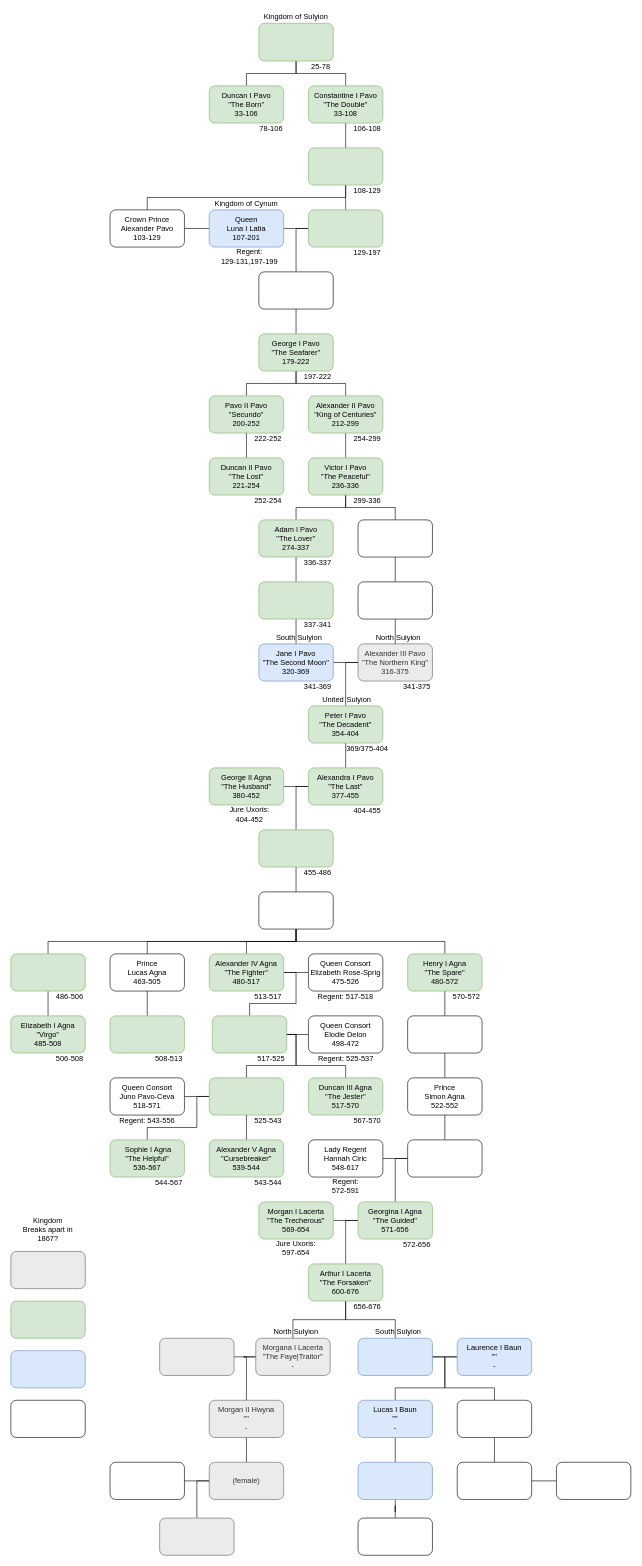
The diagram is 642 pixels wide and 1566 high, and some of its shapes have lost their labels. Each missing label, with the box of its shape:
Alexander I Pavo "The Landed" 5-78: (258, 23, 333, 61)
Crown Prince Alexander Agna 439-479: (258, 891, 333, 929)
Crown Prince Alexander Pavo 142-179: (258, 271, 333, 309)
Elaine I Lacerta "Liberator|Betrayer" -: (357, 1338, 432, 1375)
Erien I Hwyna "The Waterlord" -: (159, 1338, 234, 1375)
George III Agna "The Warrior" 498-525: (212, 1015, 287, 1053)
Hugo I Baun "" -: (357, 1462, 432, 1499)
Issac I Agna "The Short" 483-513: (109, 1015, 184, 1053)
Julius I Agna "Pacifier" 517-543: (209, 1077, 284, 1115)
Lord Duncan Agna 550-571: (407, 1139, 482, 1177)
Lucius I Agna "The Reviver" 410-486: (258, 829, 333, 867)
Pavo I Pavo "The Western King" 111-197: (308, 209, 383, 247)
Pavo III Agna "The Scholar" 460-506: (10, 953, 85, 991)
Prince Albert Pavo 282-318: (357, 581, 432, 619)
Prince Joseph Pavo 279-338: (357, 519, 432, 557)
Prince Lucas Agna 505-568: (407, 1015, 482, 1053)
Simeon I Pavo "The Conquerer" 78-129: (308, 147, 383, 185)
Simeon II Pavo "The Weak" 292-341: (258, 581, 333, 619)
